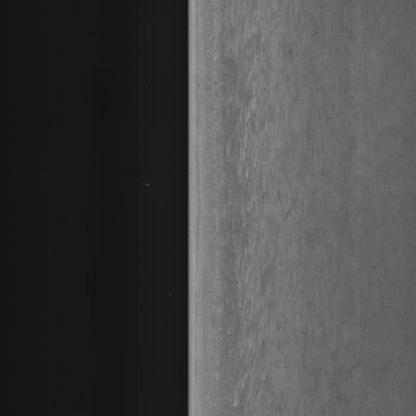silk_spot: (216, 20, 338, 402)
